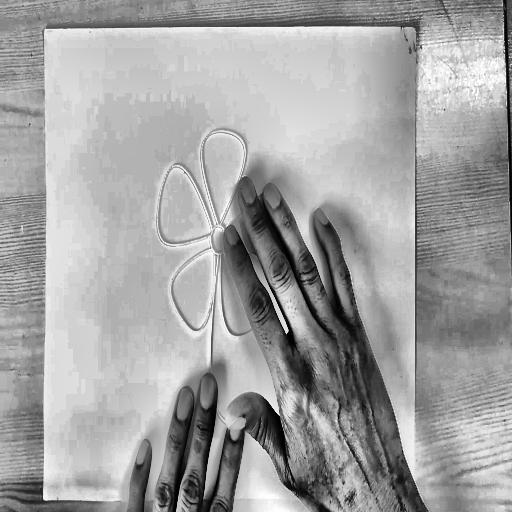bottom_left: (39, 490, 48, 506)
bottom_right: (412, 491, 418, 501)
flower: (152, 122, 293, 449)
top_left: (41, 25, 48, 38)
top_right: (412, 23, 420, 36)
